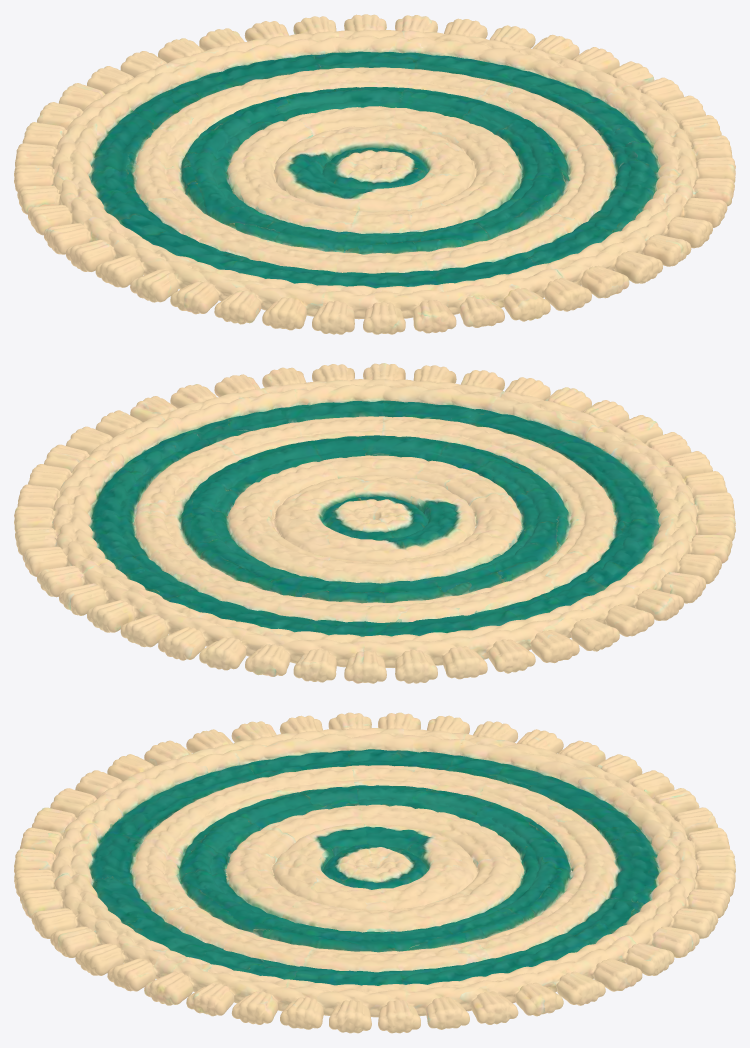
Rendered from Meshy_AI_model.glb.
The picture shows the model from 3 angles, top to bottom: view 1: azimuth 30°, elevation 25°; view 2: azimuth 150°, elevation 25°; view 3: azimuth 270°, elevation 25°; orthographic projection.
Visible parts, largest first — view 1: mesh_node; view 2: mesh_node; view 3: mesh_node.
Boxes of the visible parts, box(x1,y1,x2,y2) form: mesh_node: box(14, 14, 735, 334); mesh_node: box(14, 363, 735, 683); mesh_node: box(14, 712, 735, 1033).
Bounding box in the file's own units: 1.89 × 0.0758 × 1.89.
Materials: 1 (1 with a texture image).
